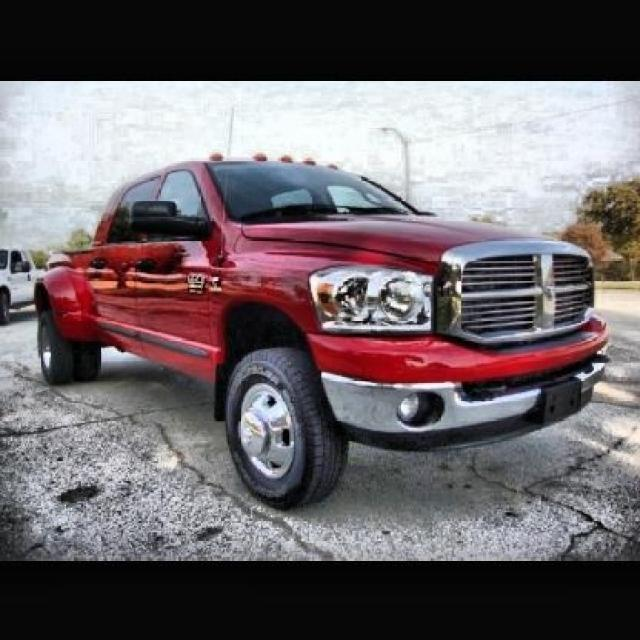maroon: (56, 148, 602, 464)
